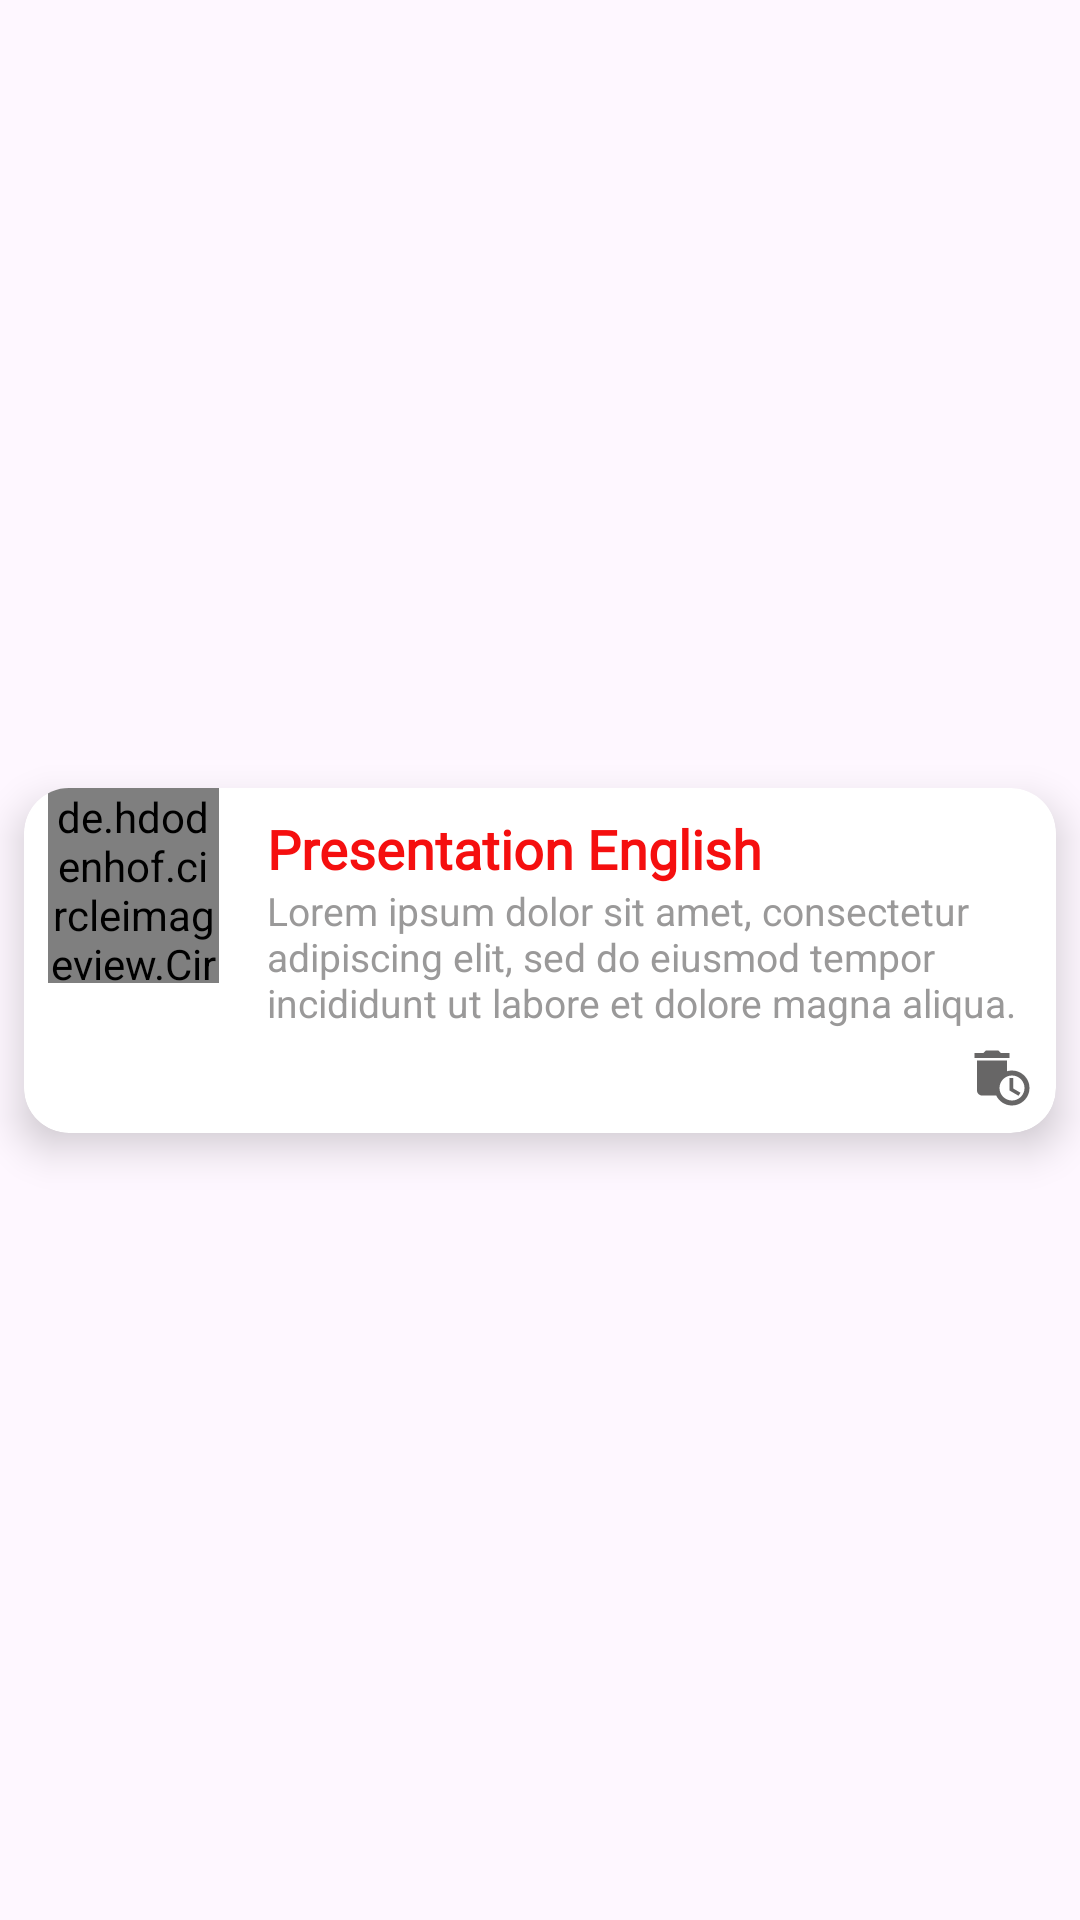

Screen size 1080x1920. Icon name, then its center in pixels as (x,y):
auto delete: (1002,1078)
